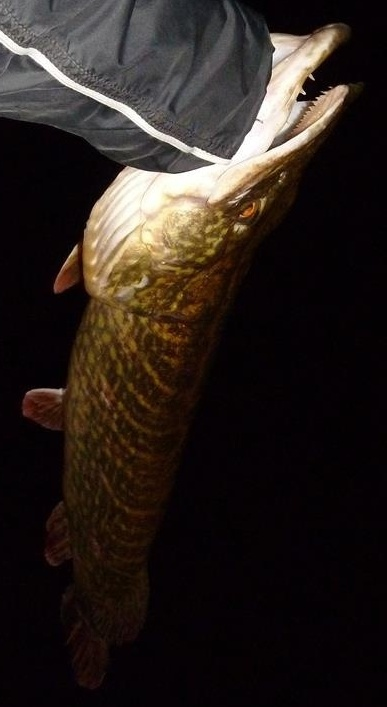Esox lucius: (20, 20, 367, 687)
